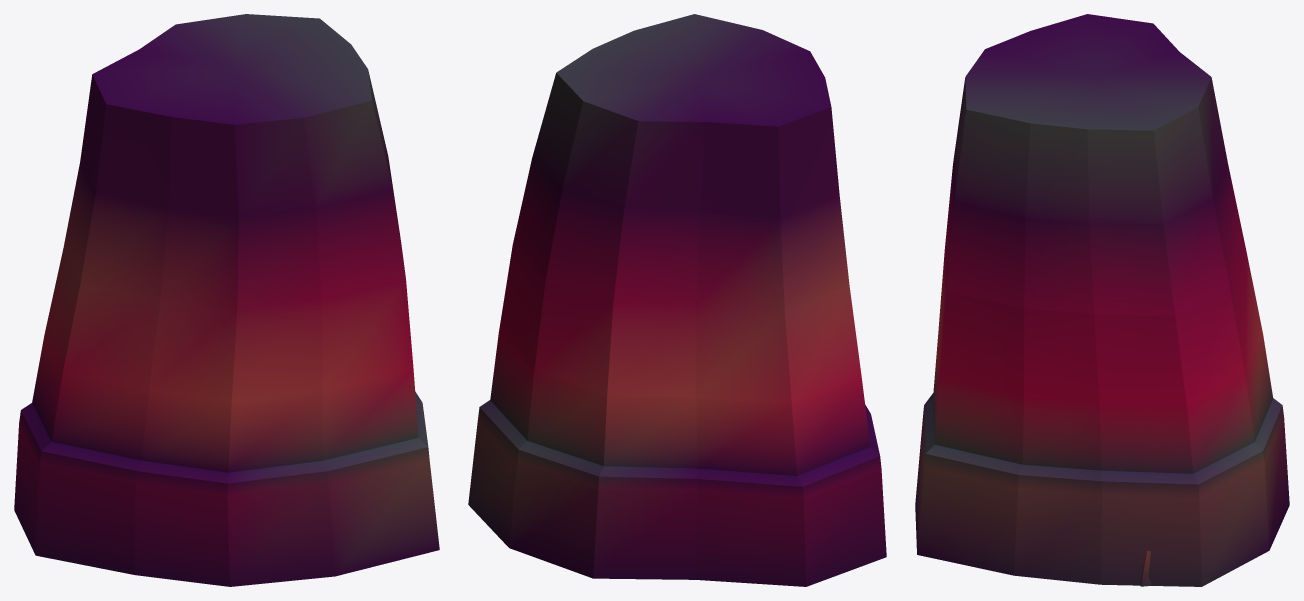
File: SM_CinderCanyon_Rock_F_LOD2.fbx
3 renders of one model, left to right at view 1: azimuth 30°, elevation 25°; view 2: azimuth 150°, elevation 25°; view 3: azimuth 270°, elevation 25°, orthographic. The views are drawn at different scales.
Visible parts, largest first — view 1: SM_CinderCanyon_Rock_F_LOD2; view 2: SM_CinderCanyon_Rock_F_LOD2; view 3: SM_CinderCanyon_Rock_F_LOD2.
Boxes of the visible parts, <box> form: SM_CinderCanyon_Rock_F_LOD2: <box>14,14,439,586</box>; SM_CinderCanyon_Rock_F_LOD2: <box>468,14,886,586</box>; SM_CinderCanyon_Rock_F_LOD2: <box>915,14,1289,586</box>.
Bounding box in the file's own units: 100 × 89 × 112.
